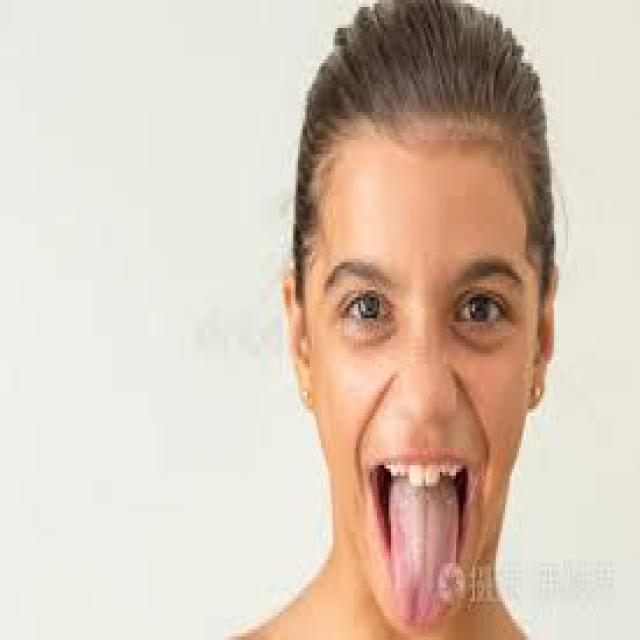tongue: (386, 479, 460, 626)
